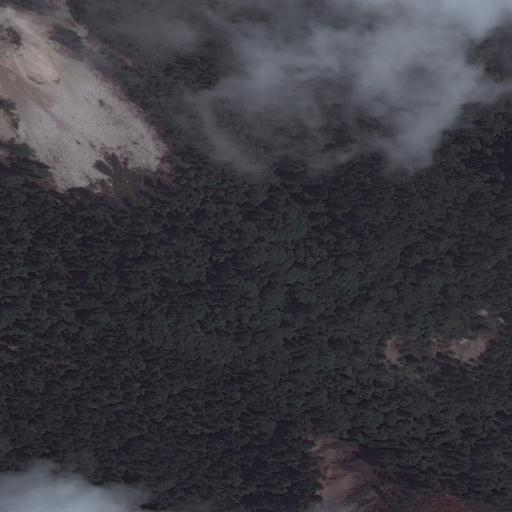landslide: (1, 6, 170, 193)
